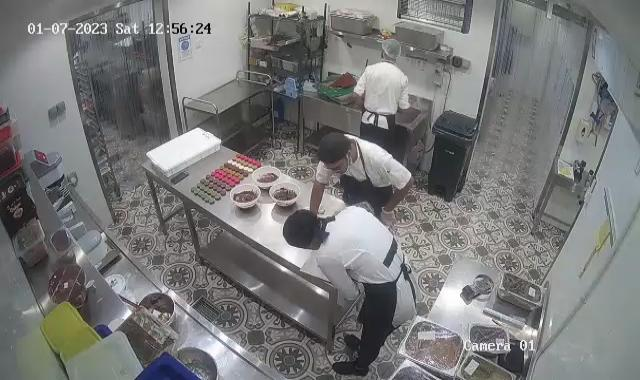hairnet: (381, 38, 404, 65)
no_hairnet: (283, 210, 321, 252), (316, 133, 354, 171)
